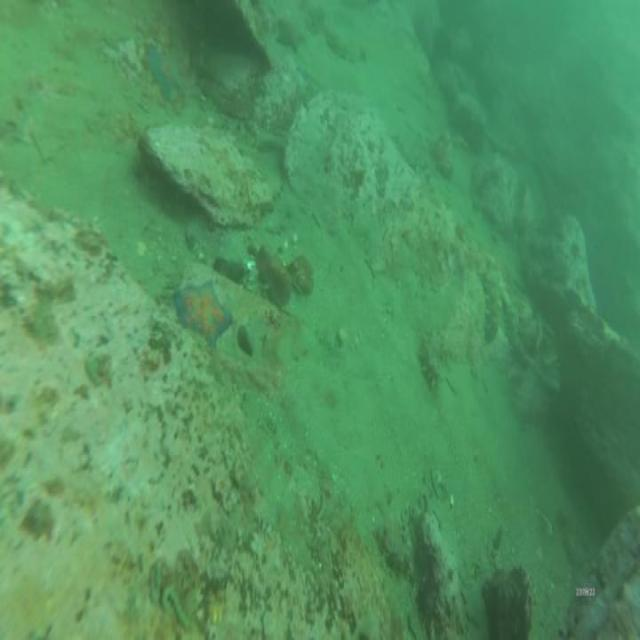holothurian: (420, 322, 454, 395), (483, 258, 504, 350)
starfish: (172, 272, 234, 351), (144, 42, 183, 102)
